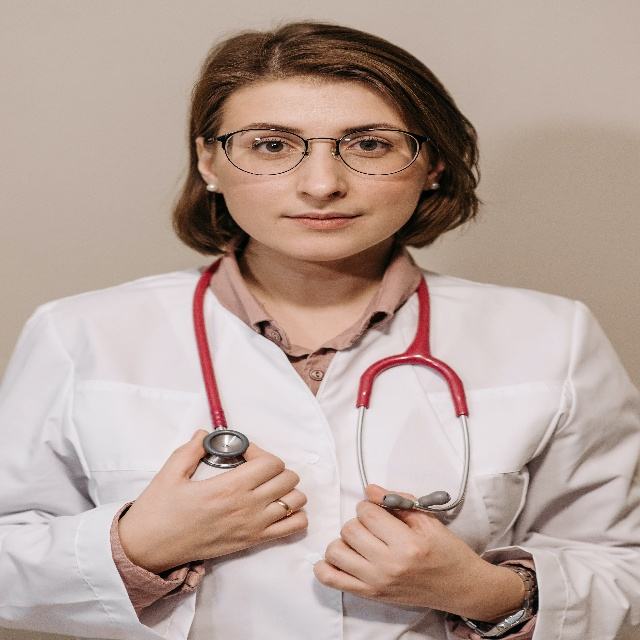Gafas: (208, 125, 441, 173)
Sin_guantes: (133, 425, 308, 578), (309, 484, 478, 614)
